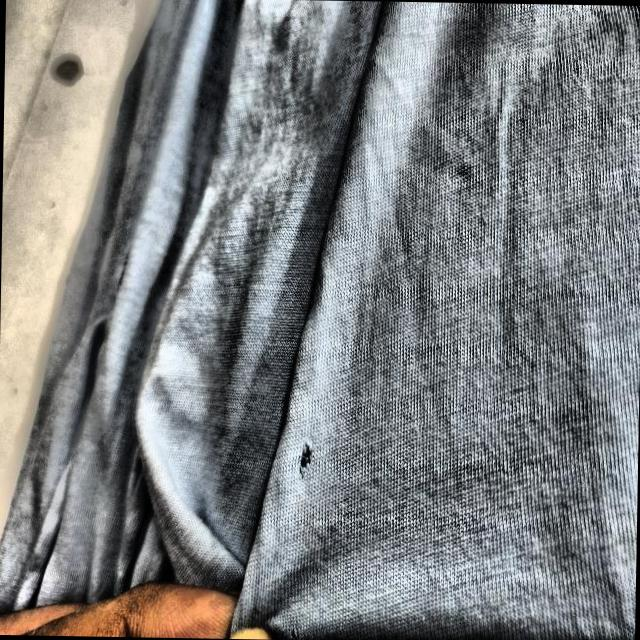cut: (288, 432, 319, 488)
